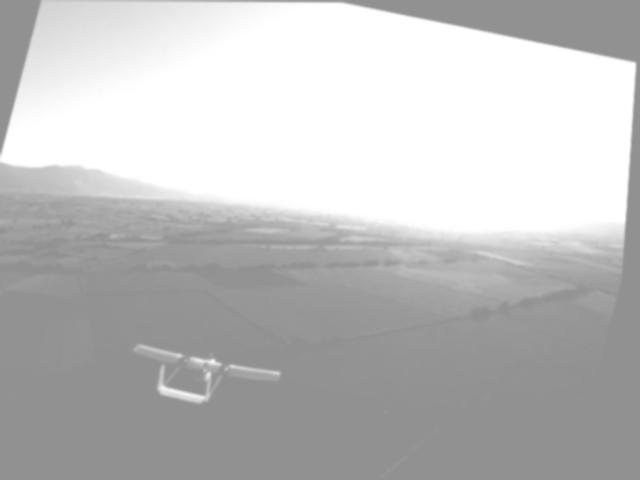hedef: (120, 324, 295, 425)
